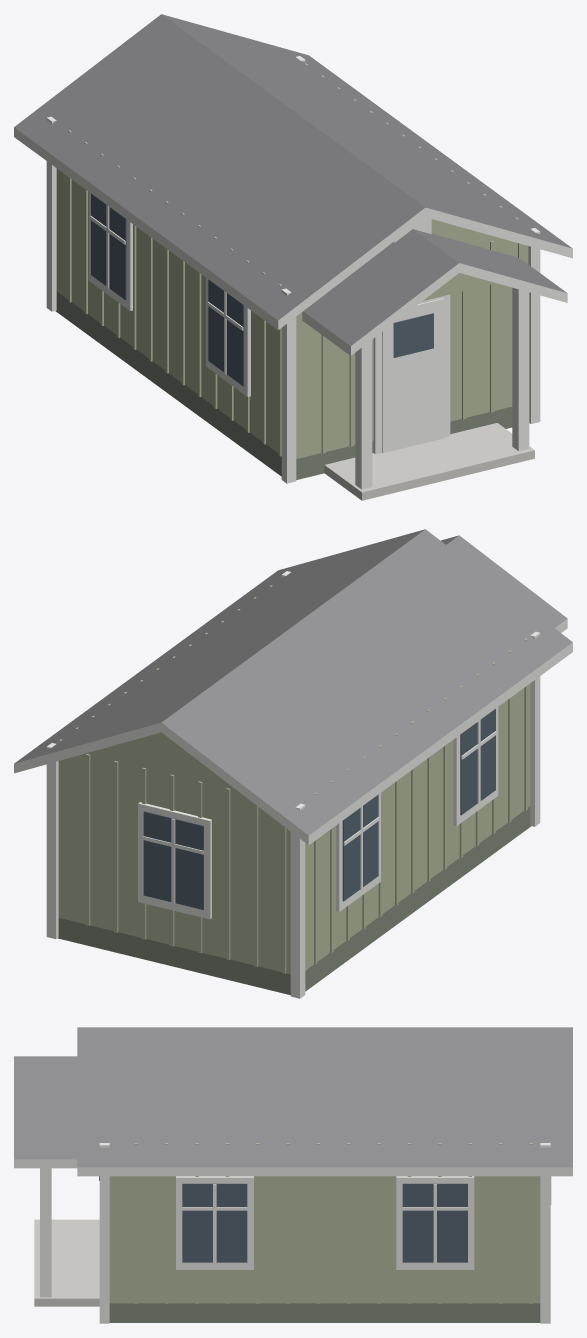
File: pocket-sage.glb
3 views of the same model, one above another, from view 1: azimuth 30°, elevation 25°; view 2: azimuth 150°, elevation 25°; view 3: azimuth 270°, elevation 25° (orthographic). The views are drawn at different scales.
Parts seen in each view (by area): view 1: The Pocket (sage); view 2: The Pocket (sage); view 3: The Pocket (sage).
Boxes of the visible parts, x1=… form: The Pocket (sage): x1=14, y1=14, x2=572, y2=500; The Pocket (sage): x1=14, y1=529, x2=572, y2=998; The Pocket (sage): x1=14, y1=1027, x2=572, y2=1323.
Bounding box in the file's own units: 4.42 × 3.66 × 7.73.
